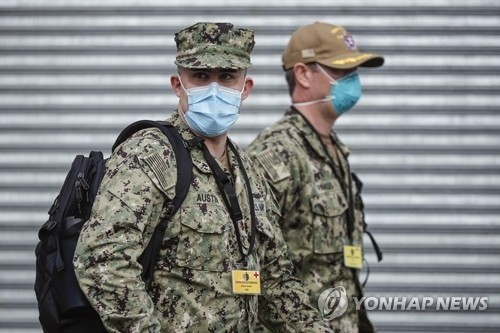face_with_mask: (166, 47, 255, 150), (289, 52, 373, 124)
